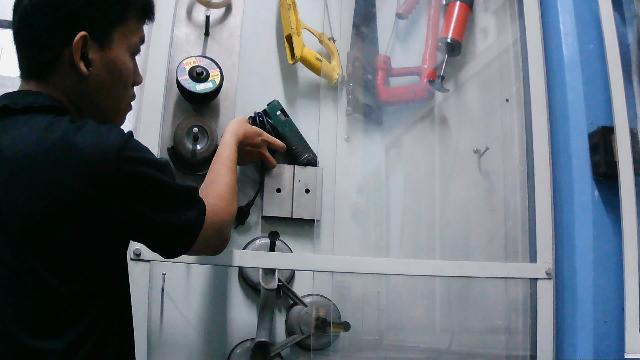gun_lem: (221, 97, 328, 179)
